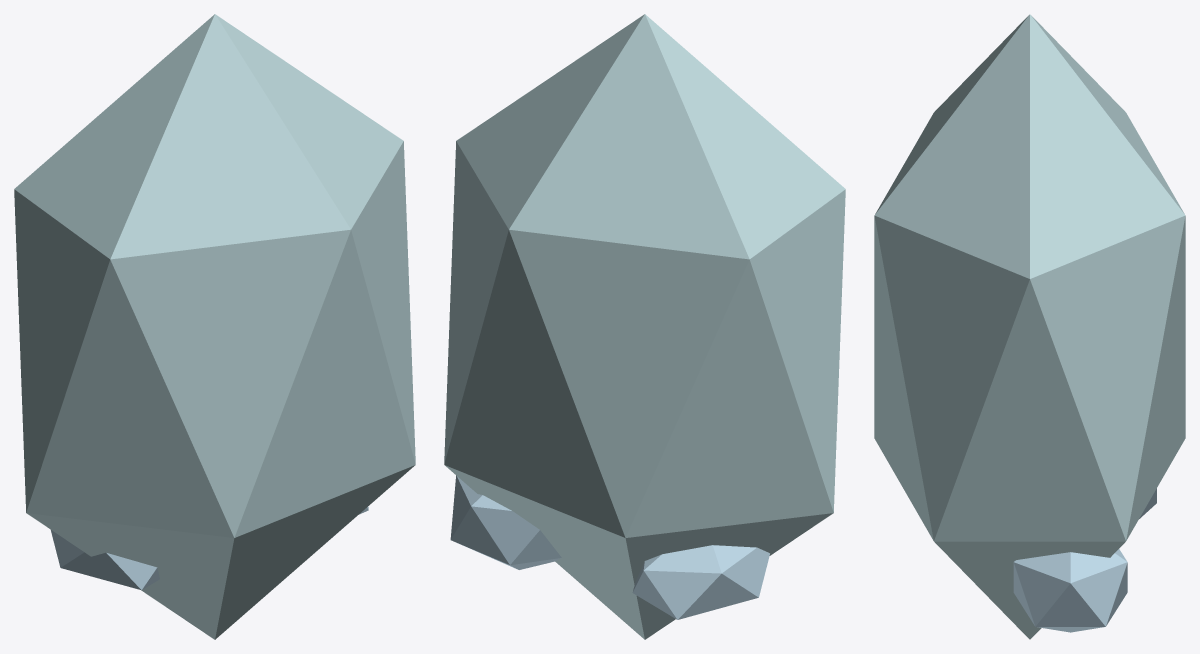
File: SH10_L06_Glacier.fbx
3 renders of one model, left to right at view 1: azimuth 30°, elevation 25°; view 2: azimuth 150°, elevation 25°; view 3: azimuth 270°, elevation 25°, orthographic.
Visible parts, largest first — view 1: SH10_L06_Glacier; view 2: SH10_L06_Glacier; view 3: SH10_L06_Glacier.
Part boxes in pixels (<box>): SH10_L06_Glacier: <box>14,14,415,639</box>; SH10_L06_Glacier: <box>444,14,845,639</box>; SH10_L06_Glacier: <box>874,14,1185,639</box>.
Size of the model in its own units: 215 by 340 by 153.
